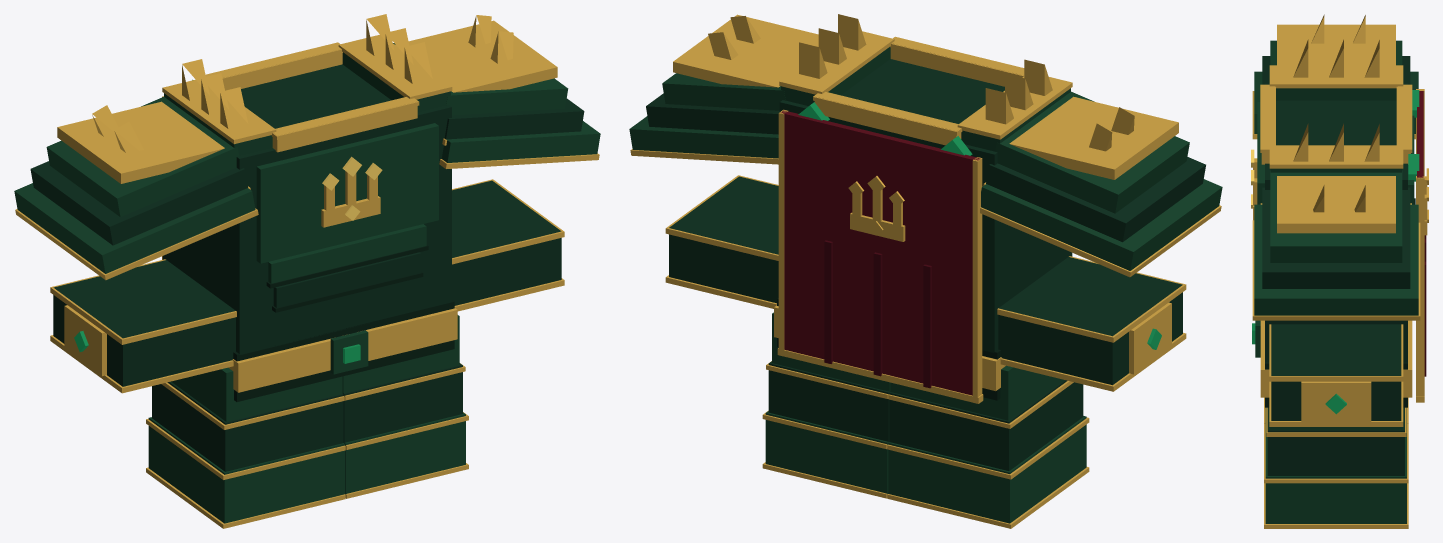
The picture shows the model from 3 angles, left to right: view 1: azimuth 30°, elevation 25°; view 2: azimuth 150°, elevation 25°; view 3: azimuth 270°, elevation 25°; orthographic projection. The views are drawn at different scales.
Parts seen in each view (by area): view 1: rank-overlord-c; view 2: rank-overlord-c; view 3: rank-overlord-c.
Boxes of the visible parts, x1,y1,x2,y2 form: rank-overlord-c: (14,14,600,528); rank-overlord-c: (629,14,1222,528); rank-overlord-c: (1251,14,1428,528).
Size of the model in its own units: 1.29 by 1.03 by 0.4267.
